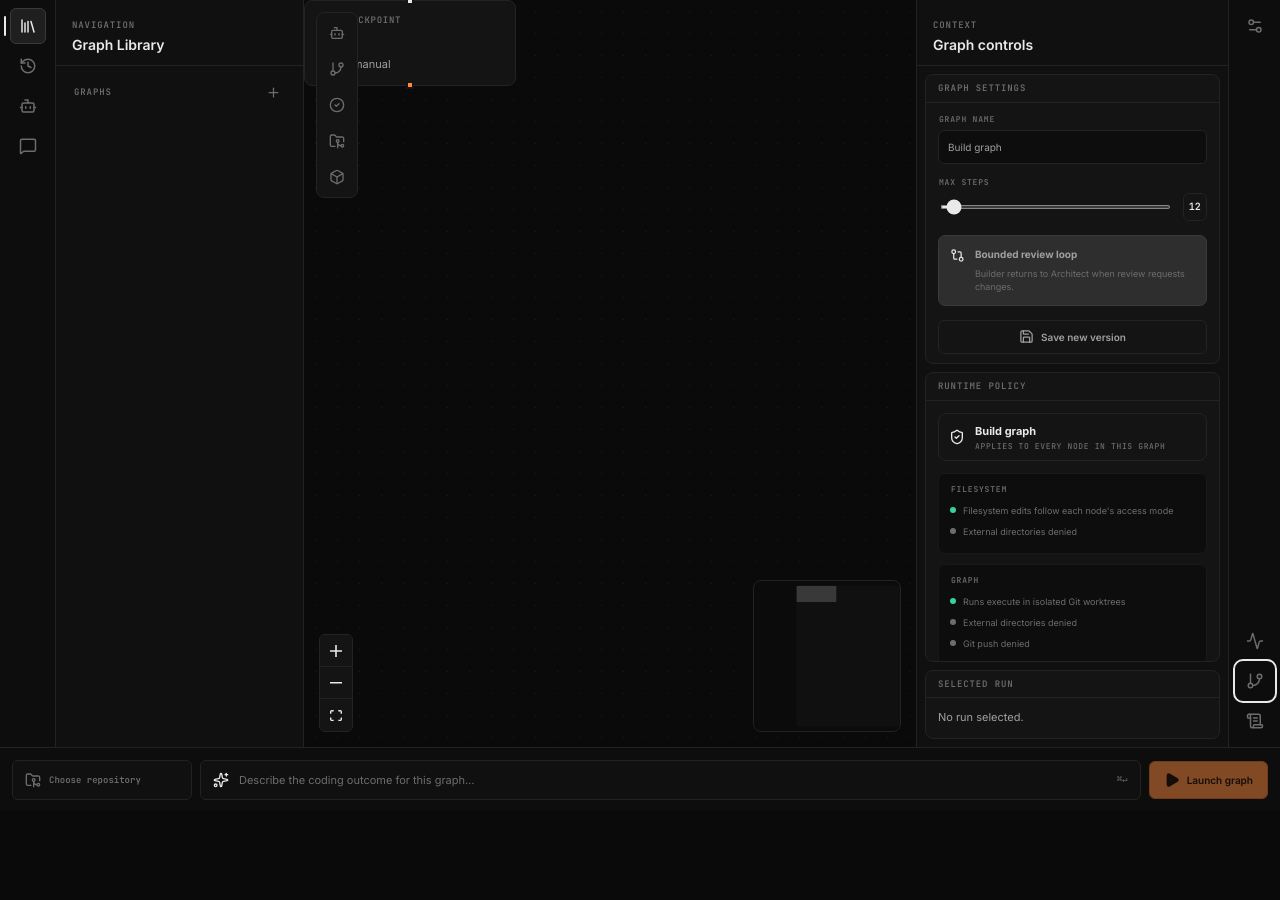
WorkspaceShell › traps focus in the drawer and restores its rail opener
Click the button named "Diff". click: coordinates (1254, 681)
box: [1236,663,1272,699]
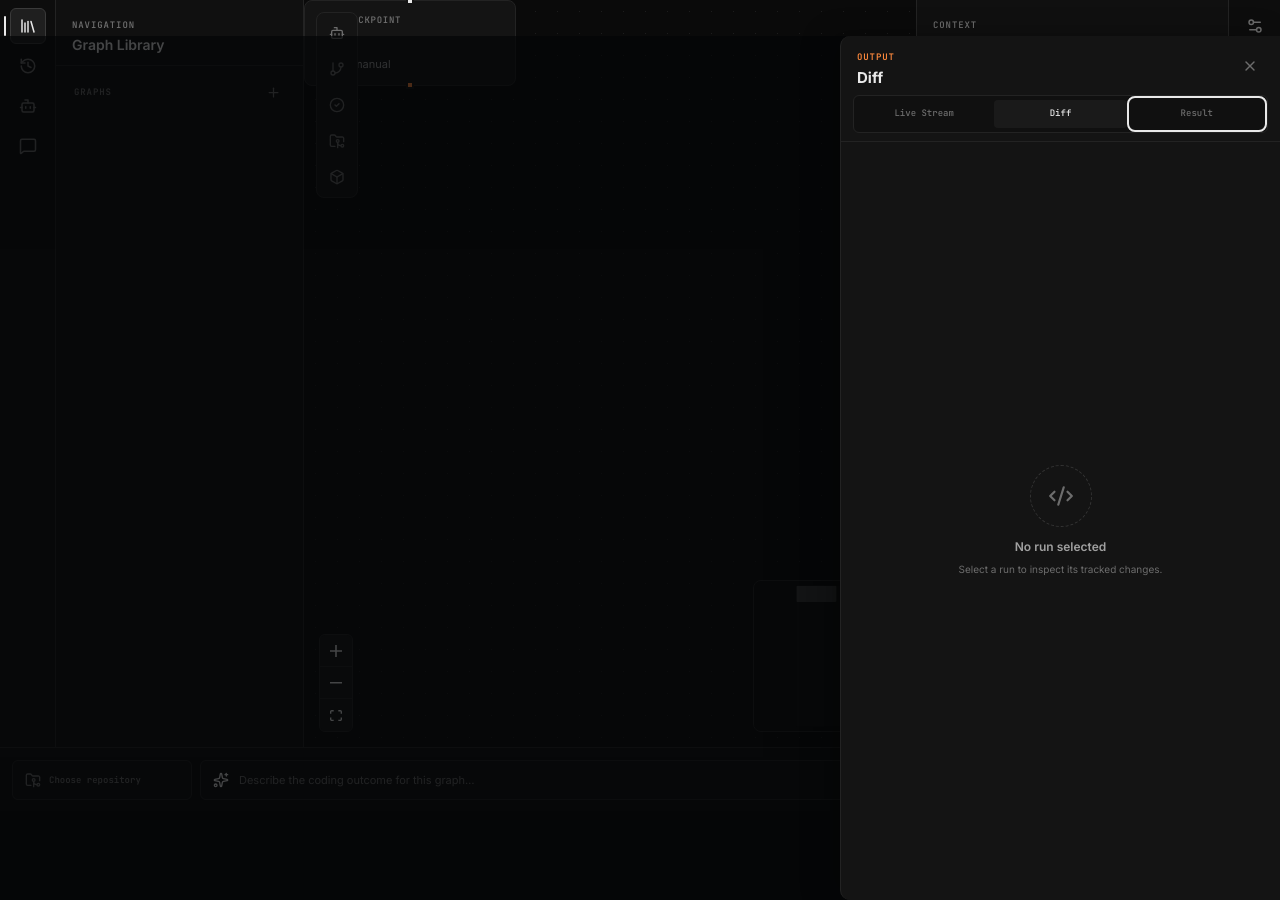
Press Tab in the button "Result", box [1131,100,1263,128]
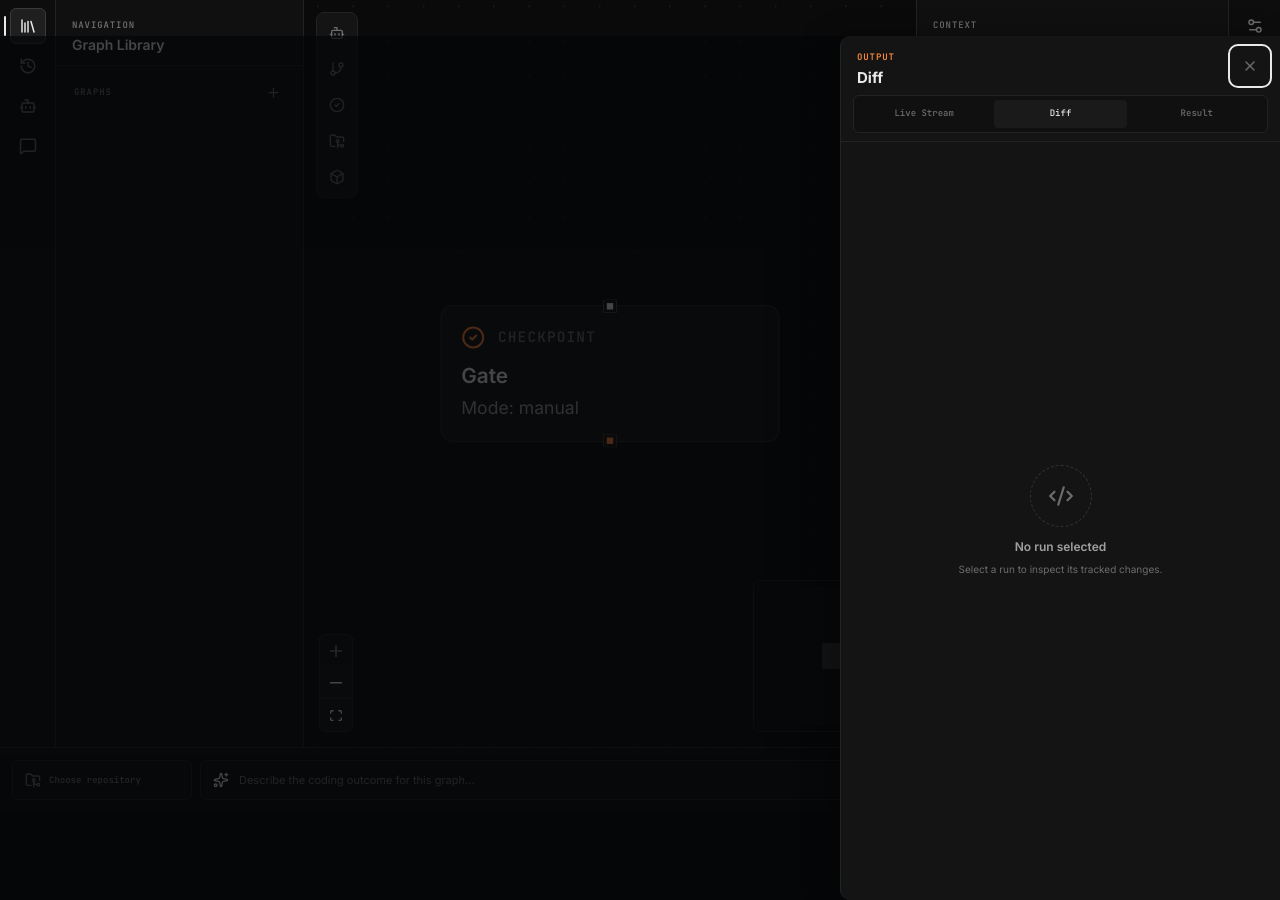
Press Escape in the button named "Close Diff", box [1232,48,1268,84]
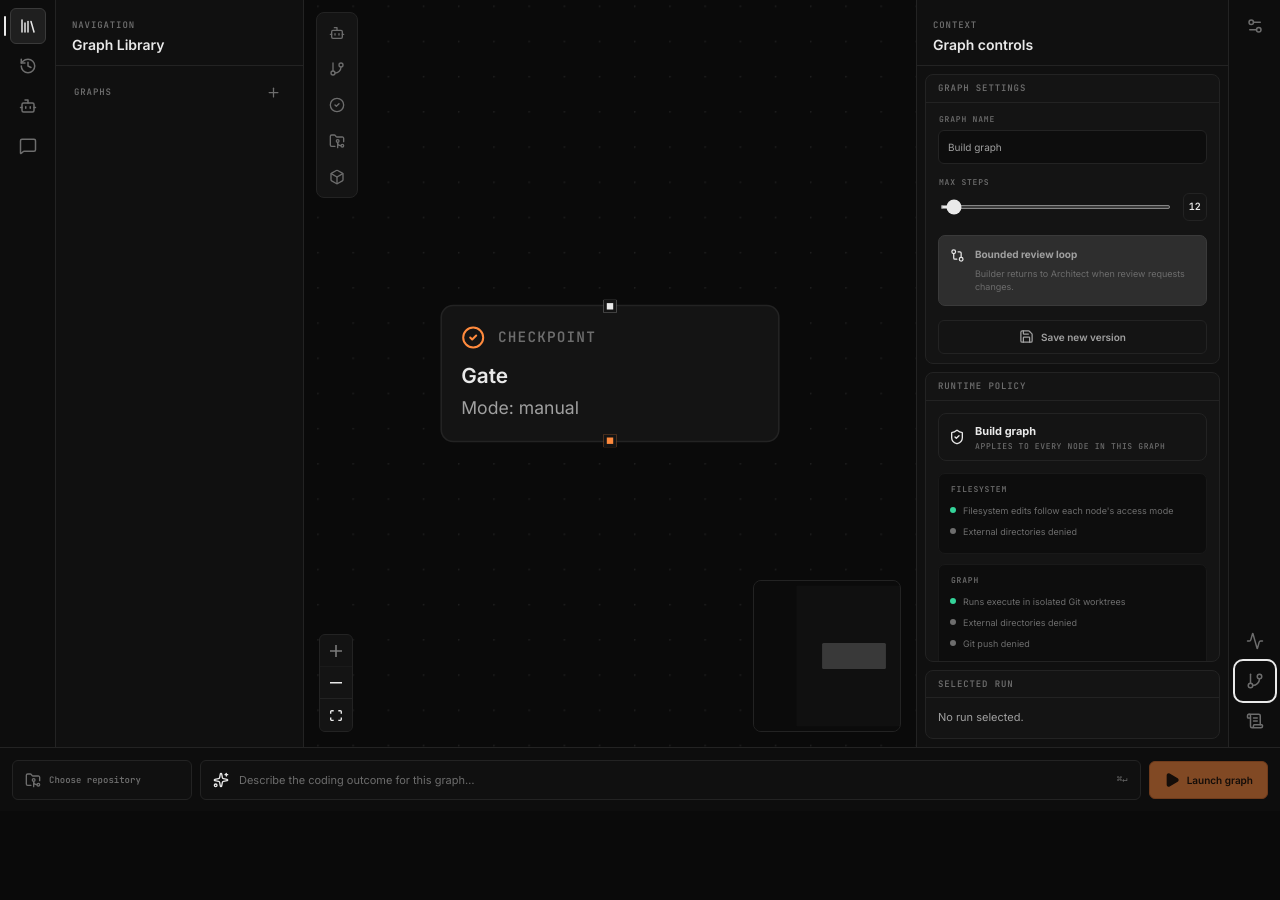
Now the text "No run selected Select a run to inspect its tracked changes." is gone
